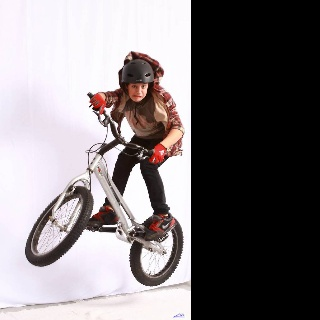without_mask: (128, 83, 149, 103)
